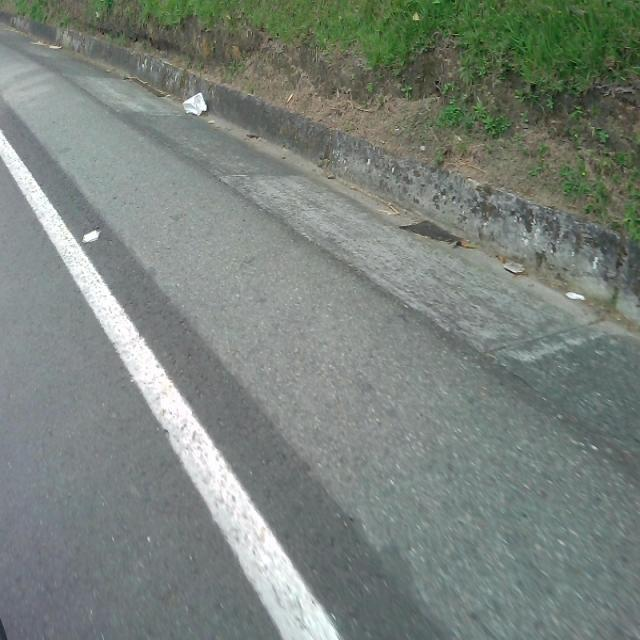DITCH: (1, 20, 638, 638)
